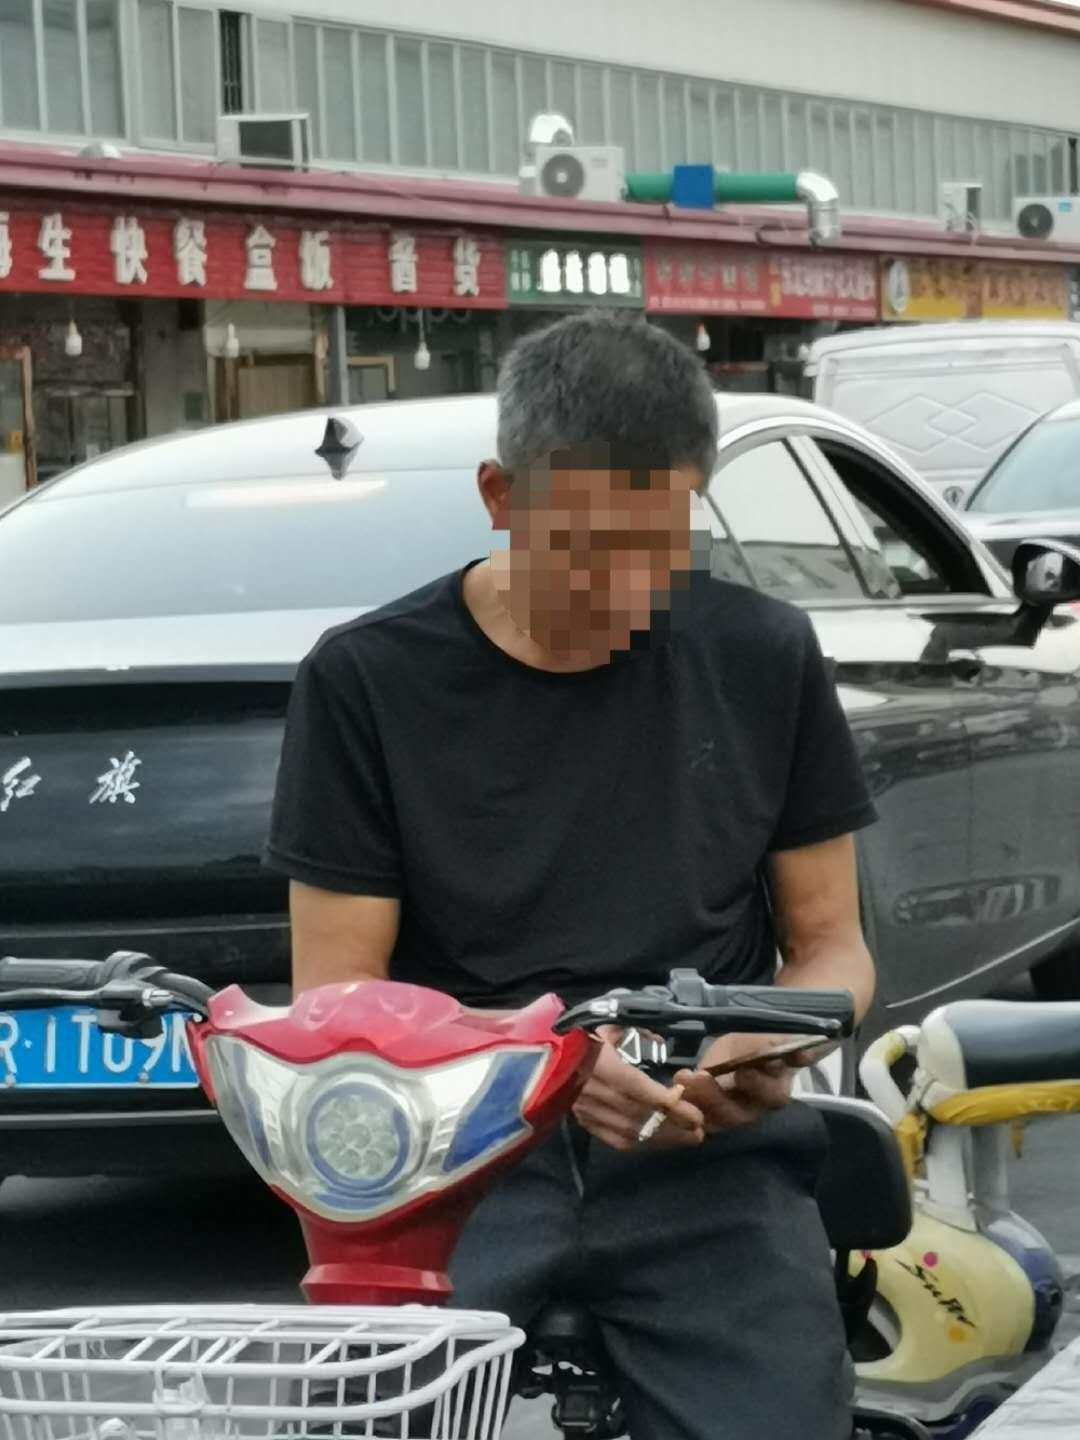smoke: (634, 1081, 691, 1145)
